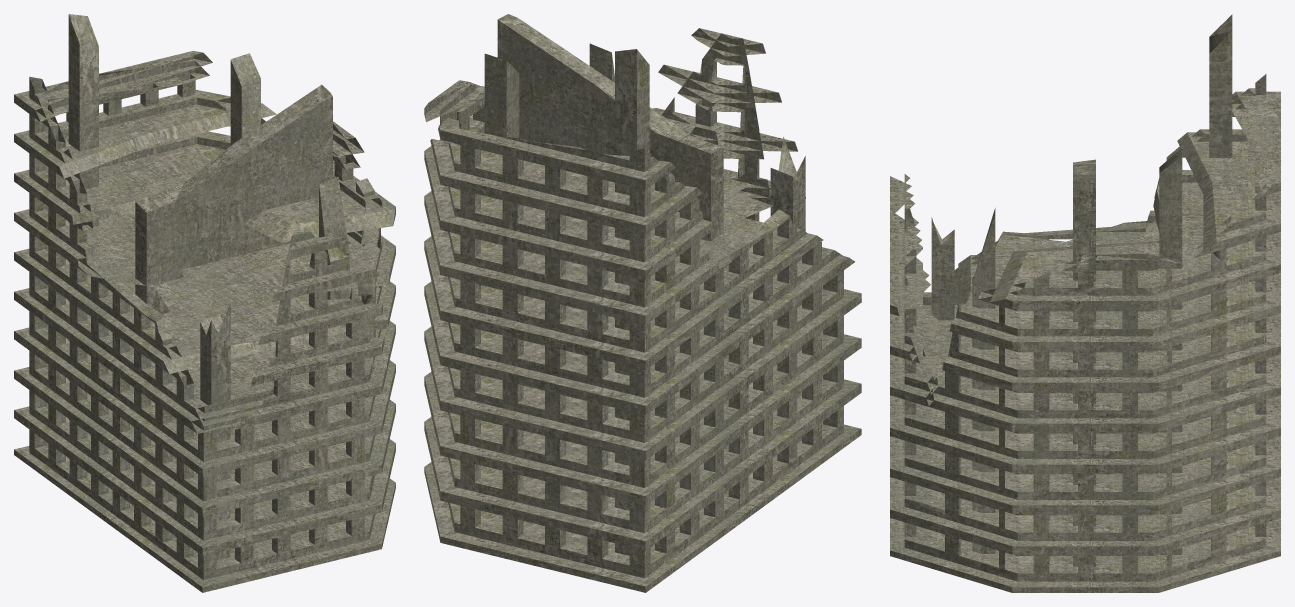
The picture shows the model from 3 angles, left to right: view 1: azimuth 30°, elevation 25°; view 2: azimuth 150°, elevation 25°; view 3: azimuth 270°, elevation 25°; orthographic projection. The views are drawn at different scales.
Visible parts, largest first — view 1: Cube.002_0; view 2: Cube.002_0; view 3: Cube.002_0.
Boxes of the visible parts, x1,y1,x2,y2 form: Cube.002_0: [14, 14, 395, 592]; Cube.002_0: [424, 14, 861, 592]; Cube.002_0: [890, 14, 1280, 592].
Bounding box in the file's own units: 2.92 × 4.98 × 3.78.
Materials: 1 (1 with a texture image).
